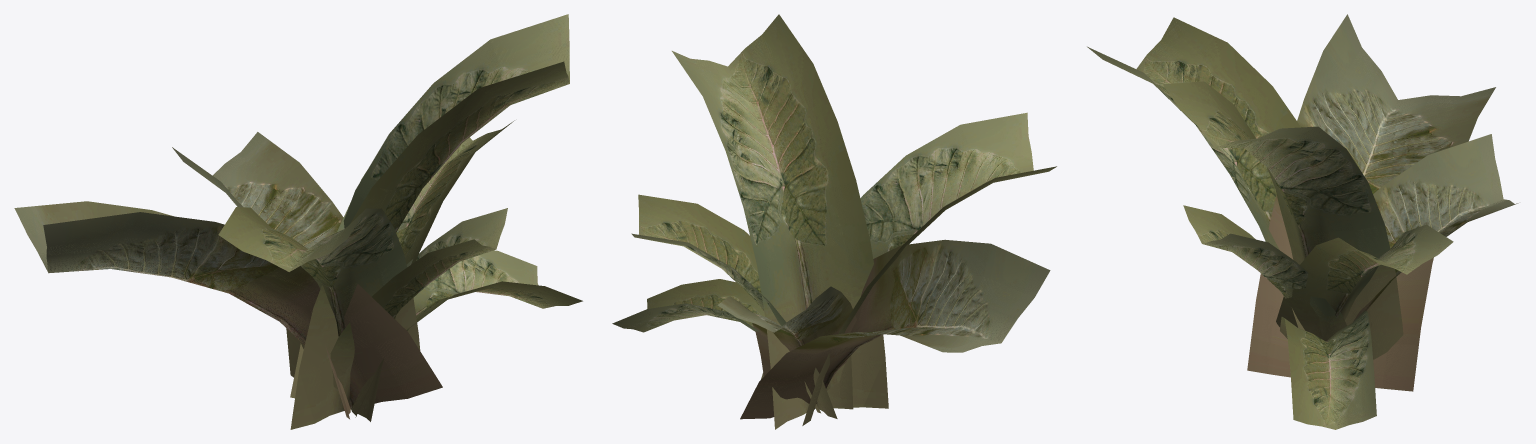
File: Elephant_Ear.fbx
3 renders of one model, left to right at view 1: azimuth 30°, elevation 25°; view 2: azimuth 150°, elevation 25°; view 3: azimuth 270°, elevation 25°, orthographic. The views are drawn at different scales.
Visible parts, largest first — view 1: Elephant_Ear; view 2: Elephant_Ear; view 3: Elephant_Ear.
Part boxes in pixels (x1,y1,x2,y2): Elephant_Ear: (14, 14, 582, 429); Elephant_Ear: (612, 14, 1056, 429); Elephant_Ear: (1087, 14, 1518, 429).
Bounding box in the file's own units: 2.62 × 1.85 × 2.05.
